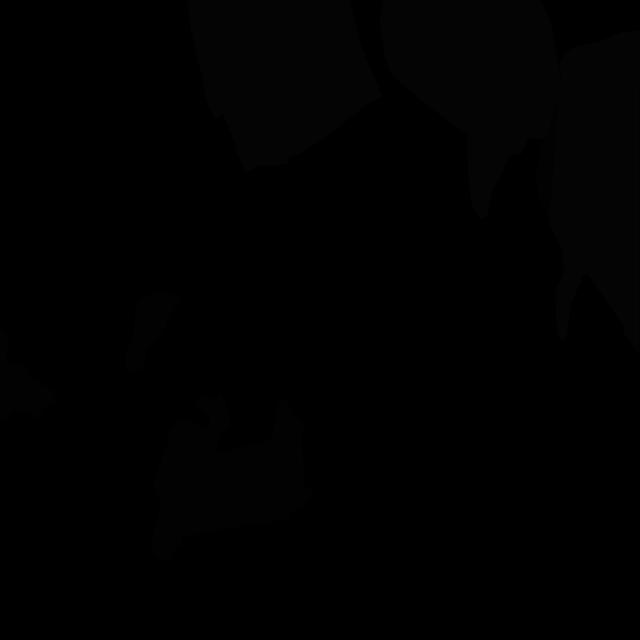cardboard: (152, 393, 312, 562), (0, 329, 56, 420), (125, 289, 181, 373), (536, 100, 557, 218)
soft_plastic: (380, 0, 561, 220), (187, 0, 382, 172), (550, 30, 640, 355)
